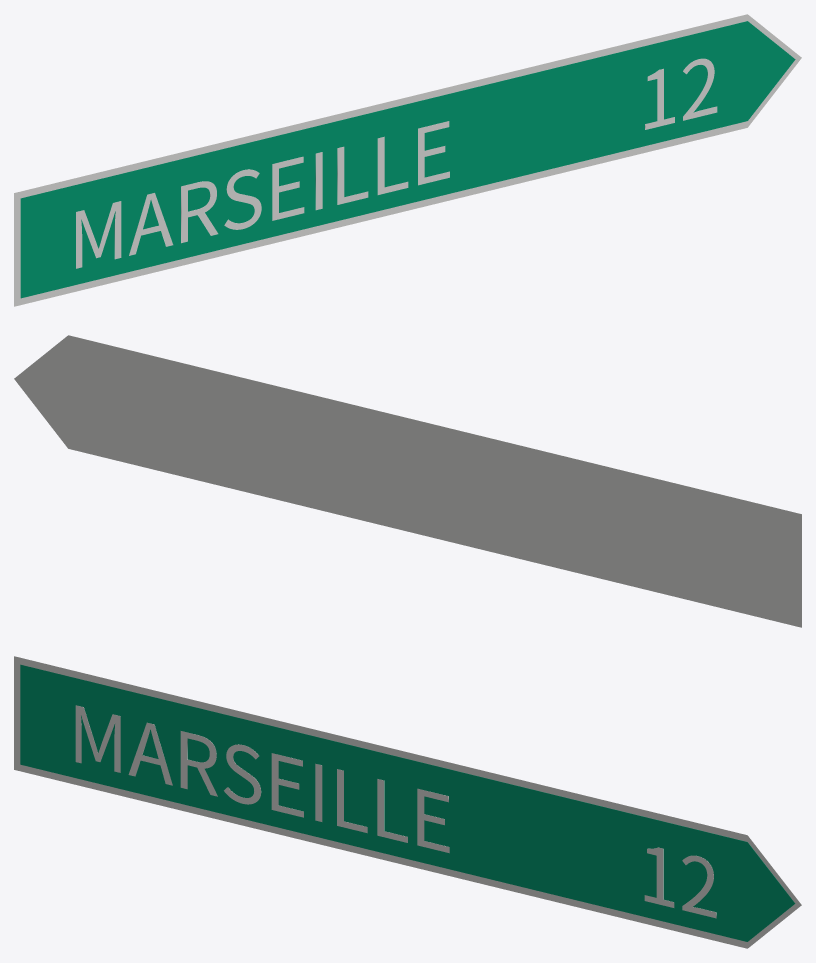
The picture shows the model from 3 angles, top to bottom: view 1: azimuth 30°, elevation 25°; view 2: azimuth 150°, elevation 25°; view 3: azimuth 330°, elevation 25°; orthographic projection.
Parts seen in each view (by area): view 1: Dv43d_reg01, Dv43d_lis00, Dv43d_txt02, Dv43d_txt03; view 2: Dv43d_lis00; view 3: Dv43d_reg01, Dv43d_lis00, Dv43d_txt02, Dv43d_txt03.
Part boxes in pixels (x1,y1,x2,y2): Dv43d_reg01: (20,21,795,298); Dv43d_lis00: (14,14,801,306); Dv43d_txt02: (76,121,449,268); Dv43d_txt03: (645,58,717,129); Dv43d_lis00: (14,335,801,627); Dv43d_reg01: (20,664,795,941); Dv43d_lis00: (14,656,801,948); Dv43d_txt02: (75,705,449,853); Dv43d_txt03: (644,847,716,918).
Bounding box in the file's own units: 1.81 × 0.25 × 0.0016.
